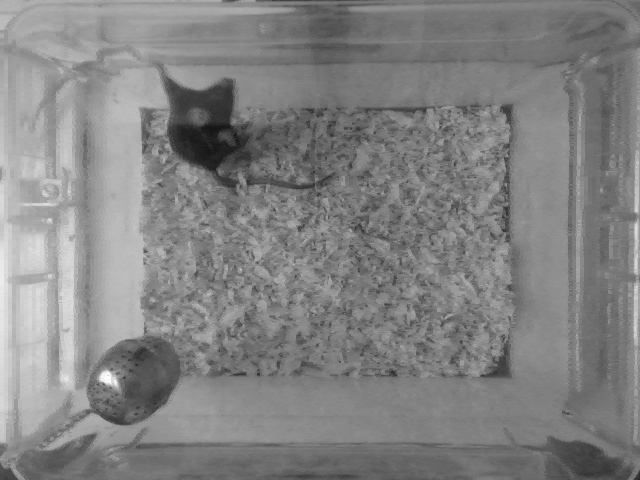mice: (146, 58, 336, 189)
